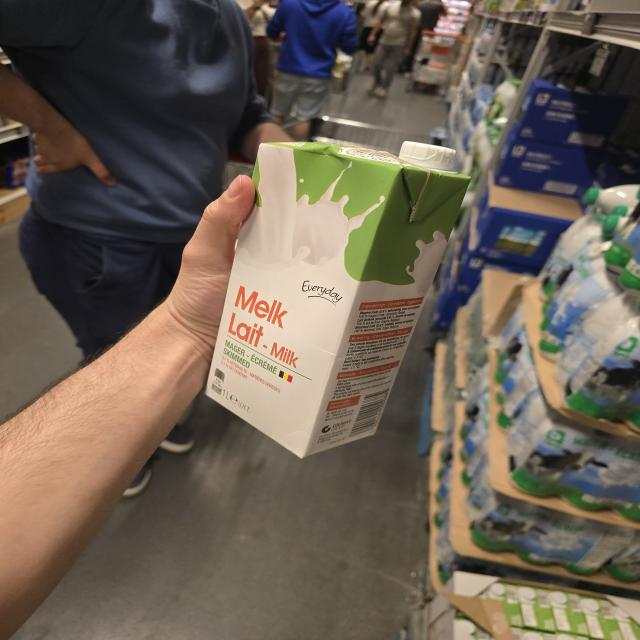Milk: (202, 139, 469, 459)
